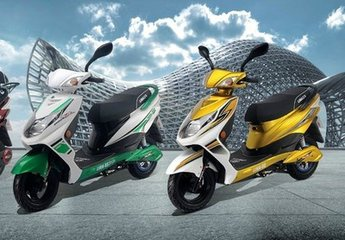non-vehicle: (167, 67, 329, 211), (10, 68, 163, 210)
